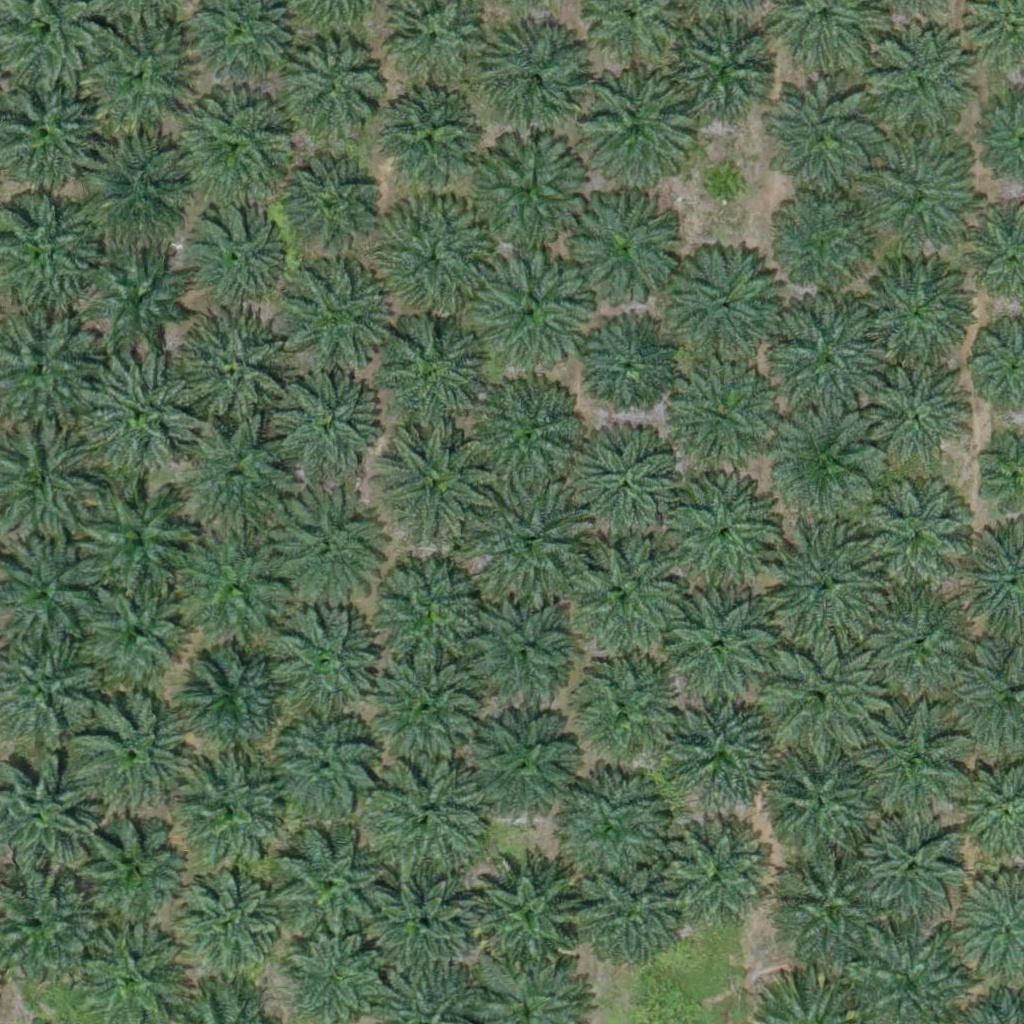Kelapa_Sawit: (767, 300, 892, 426), (466, 374, 591, 500), (373, 193, 498, 319), (372, 315, 497, 441), (372, 427, 497, 553), (167, 306, 292, 432), (175, 417, 300, 543), (71, 352, 196, 478), (75, 122, 200, 248), (71, 15, 196, 141), (73, 469, 198, 595), (77, 568, 202, 694), (73, 689, 198, 815), (63, 802, 188, 928), (165, 524, 290, 650), (259, 606, 384, 732), (262, 483, 387, 609), (264, 826, 389, 952), (369, 646, 494, 772), (368, 754, 493, 880), (550, 536, 675, 662), (463, 847, 588, 973), (760, 521, 885, 647), (756, 636, 881, 762), (464, 246, 589, 371), (466, 129, 591, 254), (369, 552, 494, 677), (555, 647, 680, 772), (544, 765, 669, 890), (165, 863, 278, 977), (177, 756, 290, 870), (861, 587, 974, 701), (858, 480, 971, 594), (769, 408, 882, 521), (663, 362, 776, 475), (666, 244, 779, 357), (668, 22, 781, 135), (274, 37, 387, 150), (180, 644, 293, 757), (464, 710, 577, 823), (465, 596, 578, 709), (478, 481, 591, 594), (570, 855, 683, 968), (857, 812, 970, 925), (854, 708, 967, 821), (861, 19, 973, 133), (862, 137, 974, 251), (768, 83, 880, 197), (859, 252, 971, 365), (570, 185, 682, 298), (580, 431, 692, 544), (476, 24, 588, 137), (266, 367, 378, 480), (282, 261, 394, 374), (179, 96, 291, 209), (270, 714, 382, 827), (362, 870, 474, 983), (661, 818, 773, 931), (668, 693, 780, 806), (660, 590, 772, 703), (665, 480, 777, 593), (765, 750, 877, 863), (772, 848, 884, 961), (868, 366, 968, 467), (773, 190, 873, 291), (587, 80, 687, 181), (580, 317, 680, 418), (378, 89, 478, 190), (282, 155, 382, 256), (187, 205, 287, 306), (89, 246, 189, 346), (699, 161, 749, 211)
